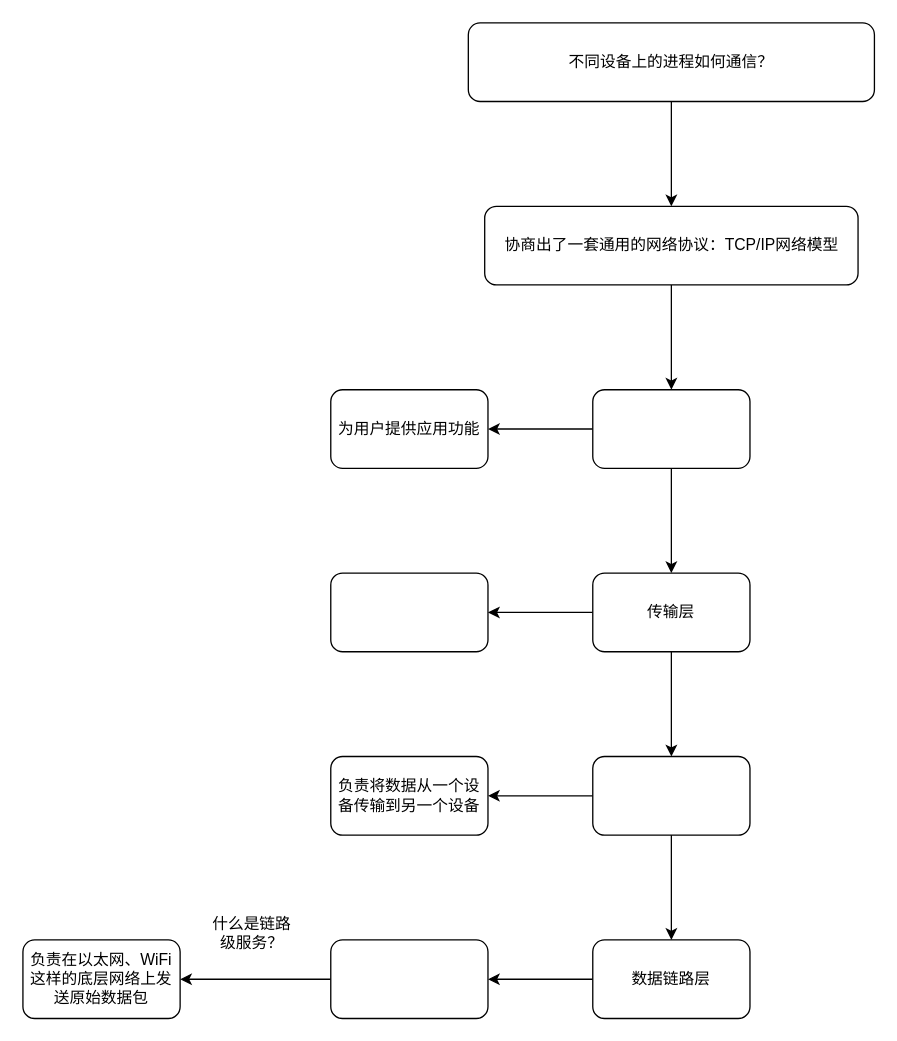
The diagram is 897 pixels wide and 1041 high, and some of its shapes have lost their labels. Here are the shapes that lost their labels. From the top down, the centre of each, then its label:
the point at 670,428: 应用层
the point at 408,612: 为应用层（进程）提供逻辑通信服务
the point at 670,795: 网络层
the point at 408,979: 为网络层提供「链路级别」传输的服务
